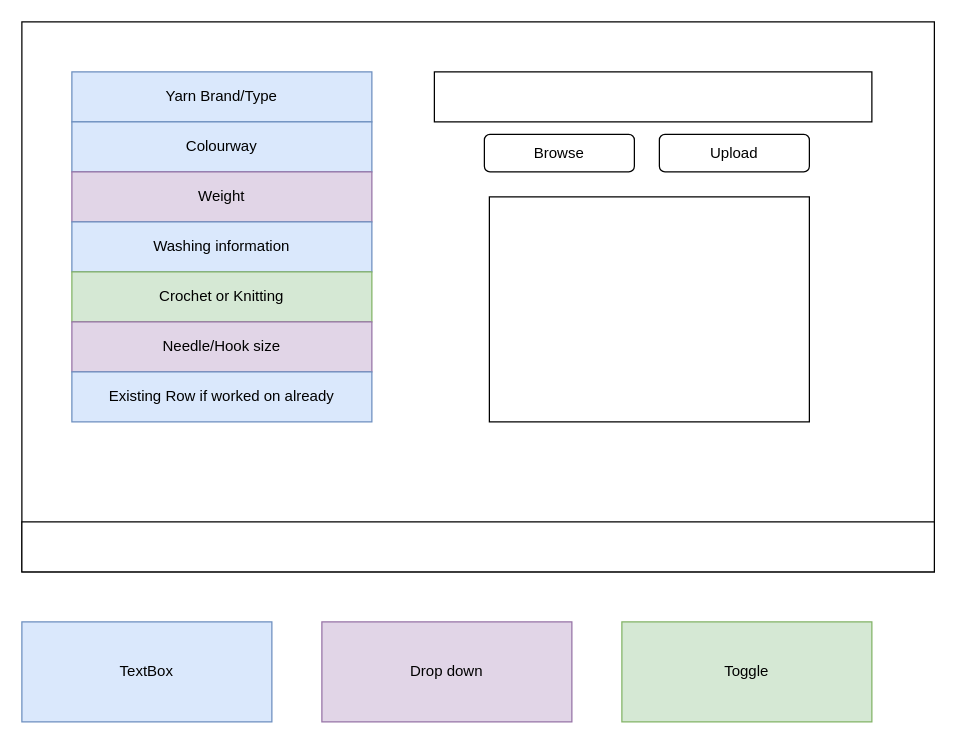
The diagram is 956 pixels wide and 744 high, and some of its shapes have lost their labels. The shapes that lost their labels are listed below. From the top down, each one's centre as x and y in pixels, then its label:
At [652,96]: "PDF Uploader...Drag and drop?".
At [648,309]: "Preview".
